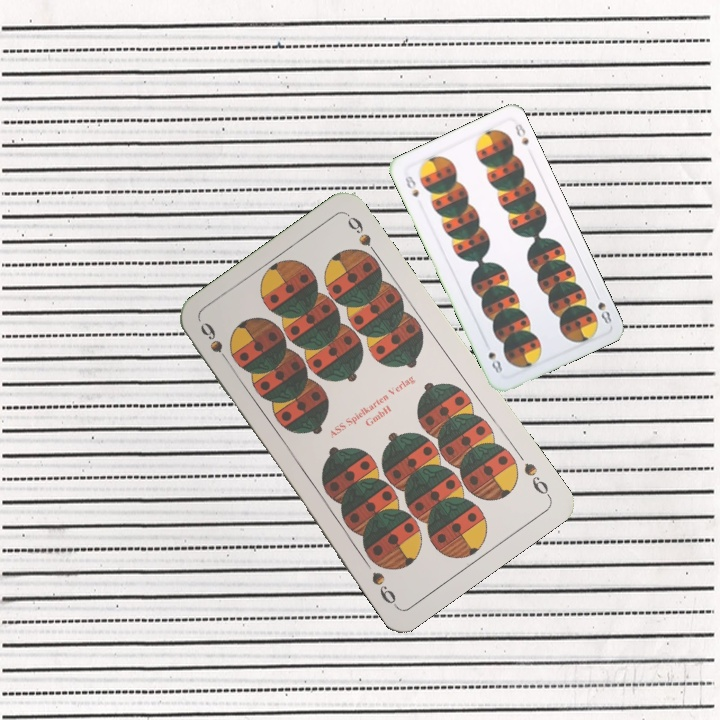S8: (591, 288, 614, 327), (399, 170, 422, 200)
S9: (196, 318, 236, 371), (519, 458, 553, 500)
